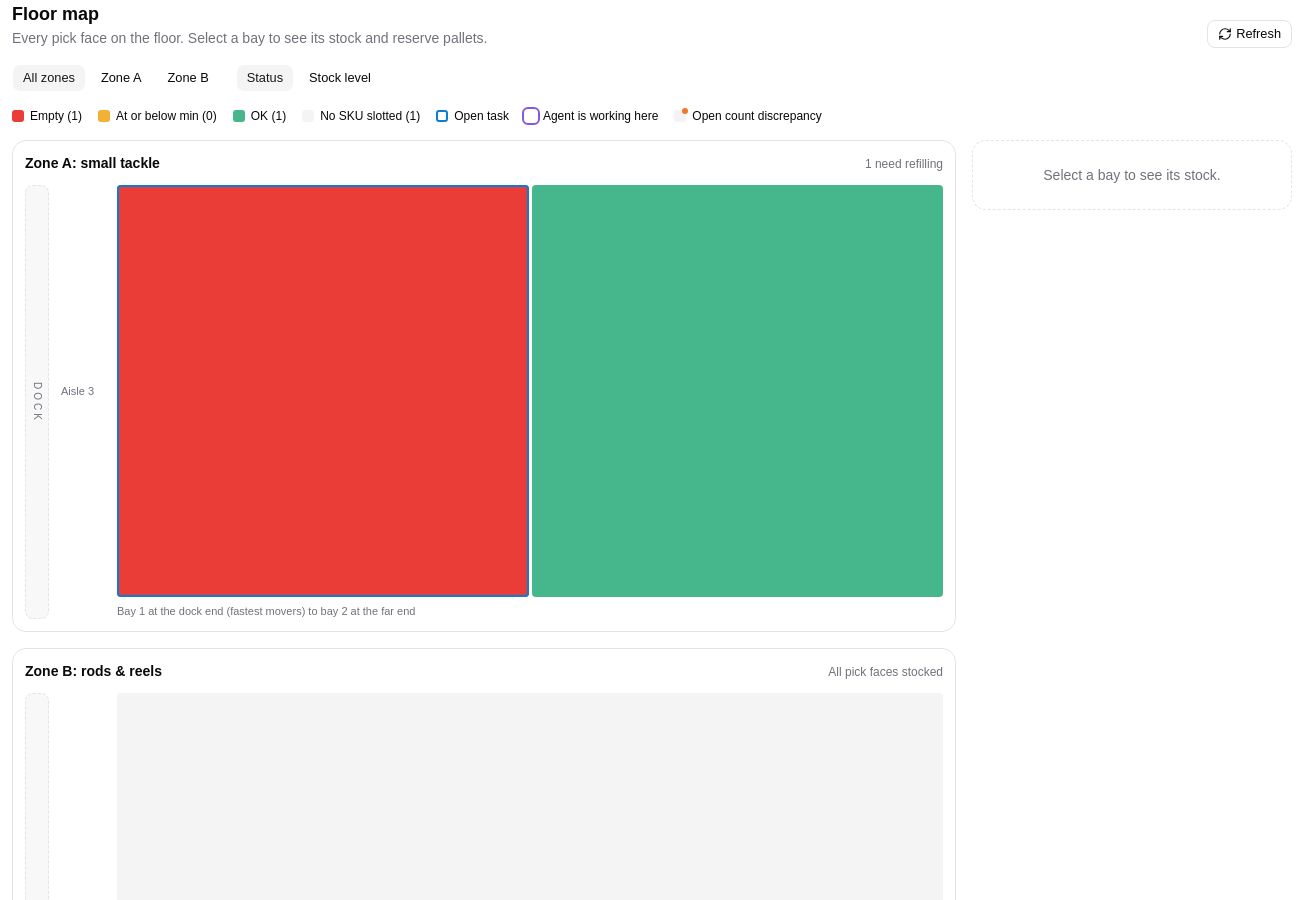
Test case: FloorMapPage › filters the map to one zone and recounts the legend
Click the button "Zone A".
click(121, 78)  # box [90,64,152,92]
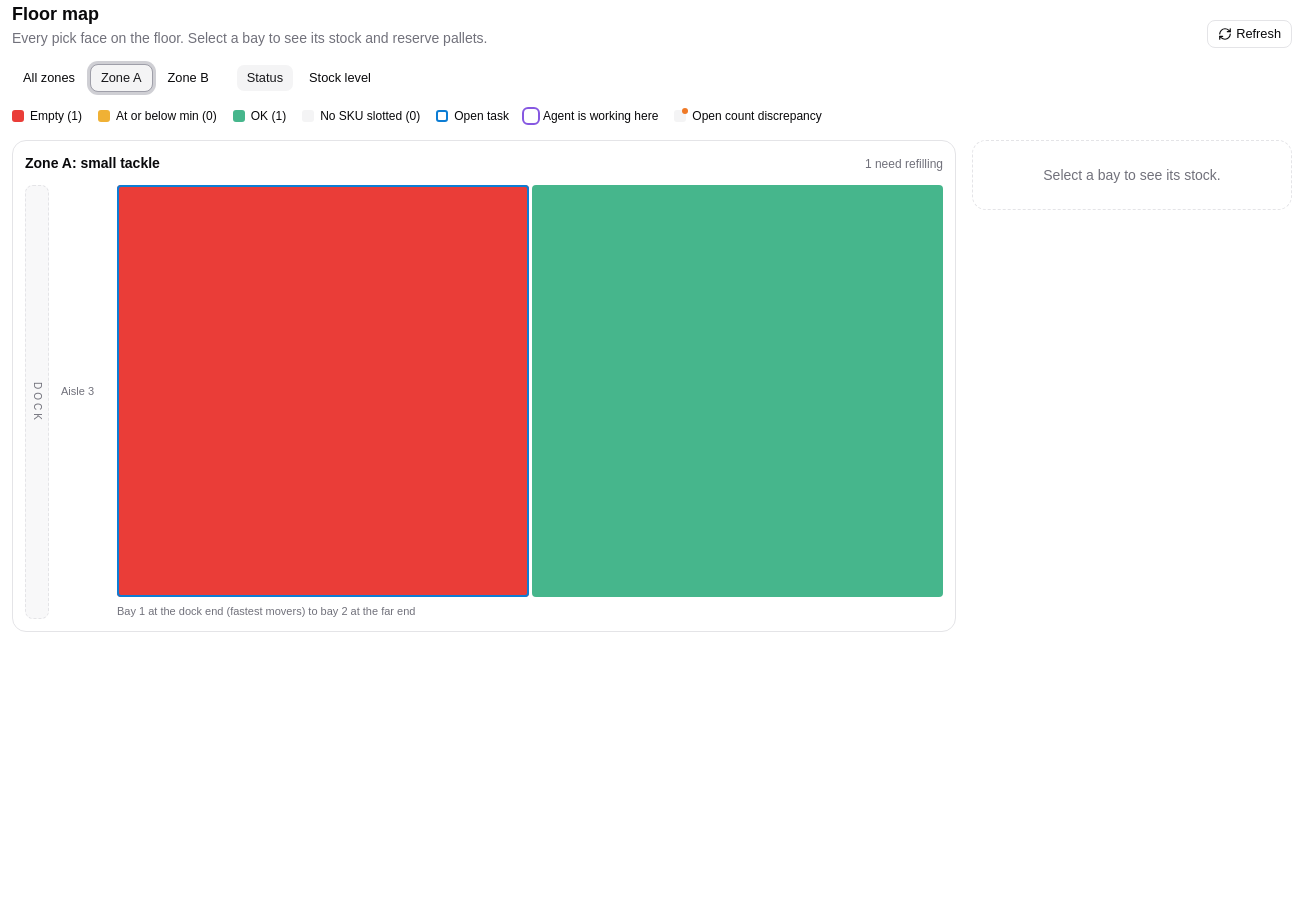
Check: the list item "OK (1)" is shown, box [233,108,286,124]
Check: the heading "Zone B: rods & reels" is gone
Check: the list item "No SKU slotted (0)" is shown, box [302,108,420,124]
